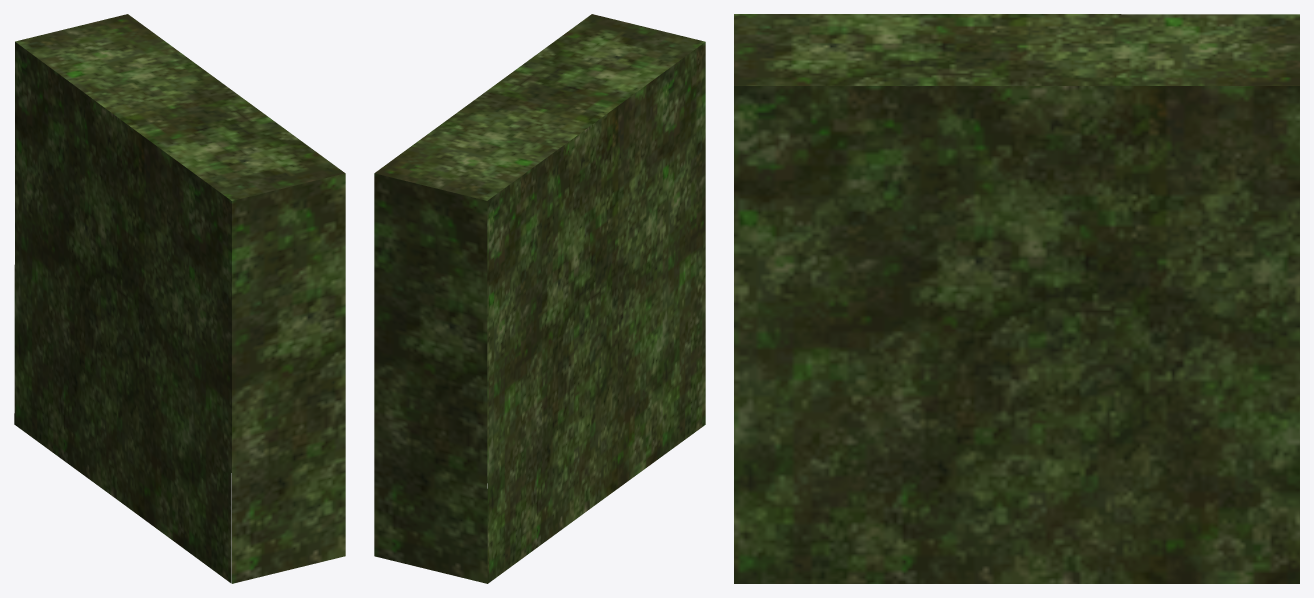
The model's file is OVERHILL_A_01_OBJECT241.fbx.
The picture shows the model from 3 angles, left to right: view 1: azimuth 30°, elevation 25°; view 2: azimuth 150°, elevation 25°; view 3: azimuth 270°, elevation 25°; orthographic projection. The views are drawn at different scales.
Parts seen in each view (by area): view 1: OVERHILL_A_01_OBJECT241; view 2: OVERHILL_A_01_OBJECT241; view 3: OVERHILL_A_01_OBJECT241.
Part boxes in pixels (x1,y1,x2,y2): OVERHILL_A_01_OBJECT241: [14, 14, 345, 583]; OVERHILL_A_01_OBJECT241: [374, 14, 705, 583]; OVERHILL_A_01_OBJECT241: [734, 14, 1299, 583].
Size of the model in its own units: 9965 by 32076 by 33047.
1 material, 1 textured.
